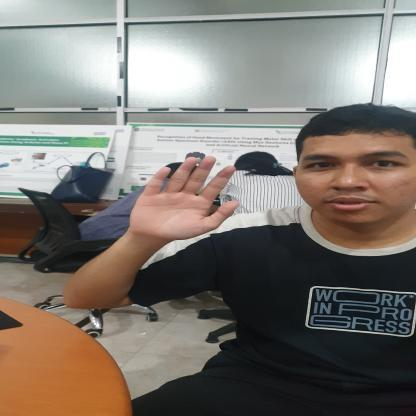Halo: (127, 153, 244, 242)
